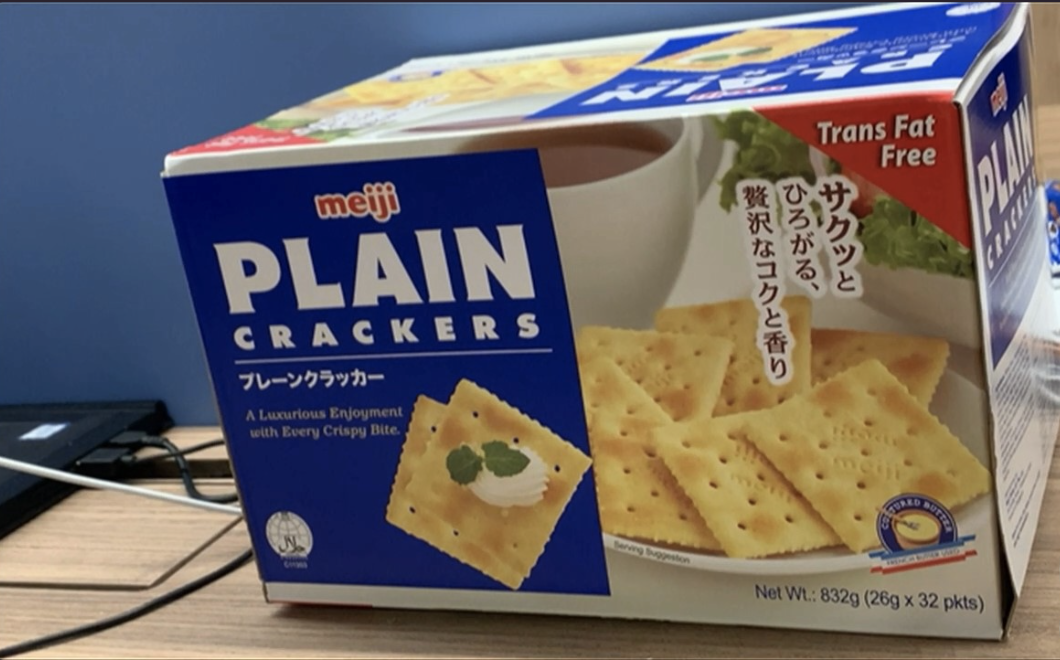crackers_850g: (222, 178, 1004, 618)
